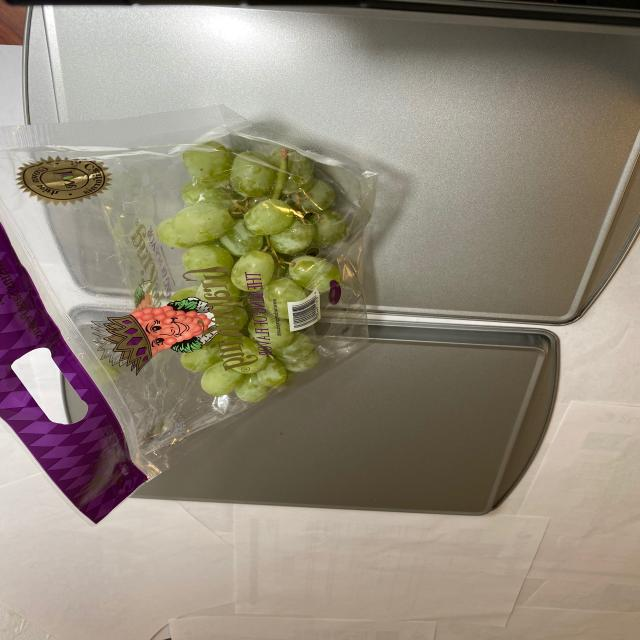grapes: (178, 134, 340, 412)
